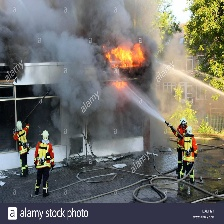fire: (100, 44, 147, 68), (108, 81, 129, 90)
smoke: (1, 2, 157, 137)
